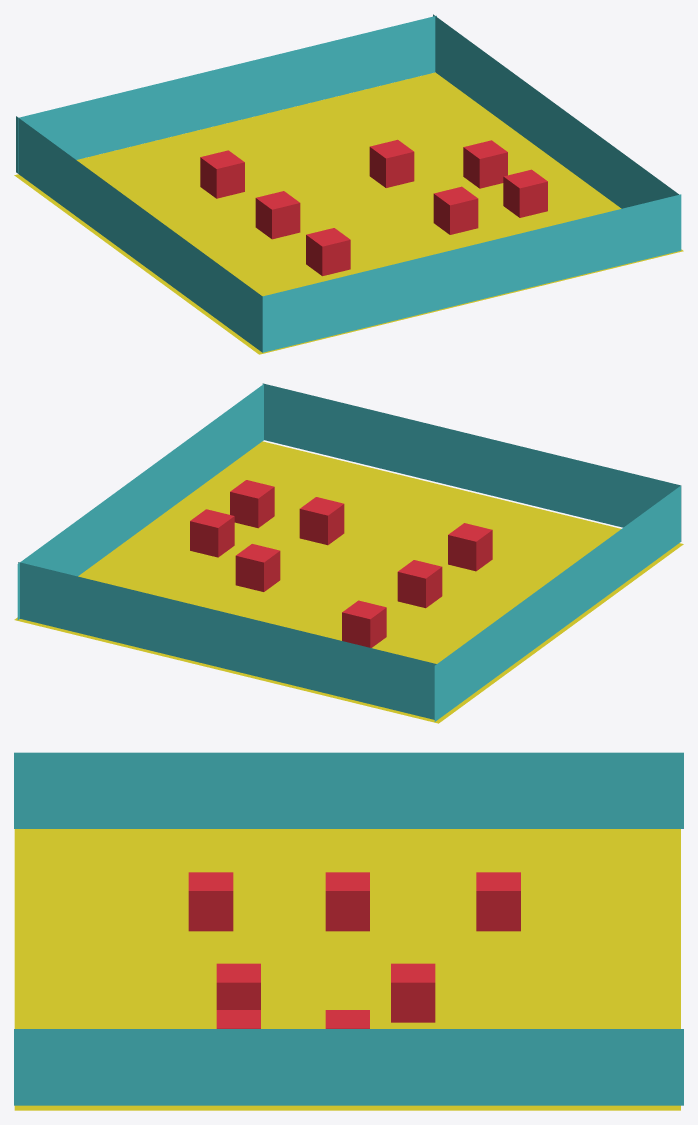
The model's file is samplemap2.dae.
The picture shows the model from 3 angles, top to bottom: view 1: azimuth 30°, elevation 25°; view 2: azimuth 150°, elevation 25°; view 3: azimuth 270°, elevation 25°; orthographic projection. The views are drawn at different scales.
Visible parts, largest first — view 1: Plane, Plane.002, Plane.001, Plane.004, Plane.003, Cube.001, Cube.005, Cube.004, Cube.002, Cube.006, Cube.003, Cube; view 2: Plane, Plane.001, Plane.002, Plane.004, Plane.003, Cube.004, Cube.005, Cube.001, Cube, Cube.006, Cube.003, Cube.002; view 3: Plane, Plane.004, Plane.003, Cube.006, Cube.002, Cube.005, Cube.001, Cube.004, Cube.003, Cube.
Boxes of the visible parts, x1,y1,x2,y2 form: Plane: (14, 72, 683, 354); Plane.002: (262, 194, 681, 352); Plane.001: (18, 15, 436, 173); Plane.004: (16, 116, 262, 352); Plane.003: (433, 14, 678, 208); Cube.001: (255, 191, 300, 239); Cube.005: (369, 139, 414, 187); Cube.004: (433, 186, 478, 234); Cube.002: (200, 150, 244, 198); Cube.006: (306, 228, 350, 276); Cube.003: (503, 169, 547, 217); Cube: (463, 140, 507, 188); Plane: (14, 441, 683, 723); Plane.001: (18, 562, 436, 719); Plane.002: (262, 383, 681, 541); Plane.004: (434, 486, 680, 721); Plane.003: (17, 384, 263, 619); Cube.004: (299, 497, 344, 545); Cube.005: (235, 544, 280, 591); Cube.001: (397, 560, 442, 608); Cube: (190, 509, 234, 557); Cube.006: (448, 523, 492, 571); Cube.003: (230, 480, 274, 528); Cube.002: (342, 600, 386, 647); Plane: (14, 829, 680, 1110); Plane.004: (14, 752, 683, 828); Plane.003: (14, 1029, 683, 1105); Cube.006: (188, 872, 233, 931); Cube.002: (476, 872, 520, 931); Cube.005: (391, 963, 435, 1022); Cube.001: (325, 872, 369, 931); Cube.004: (216, 963, 260, 1009); Cube.003: (216, 1010, 260, 1028); Cube: (325, 1010, 369, 1028).
Size of the model in its own units: 6 by 6.03 by 0.7798.
